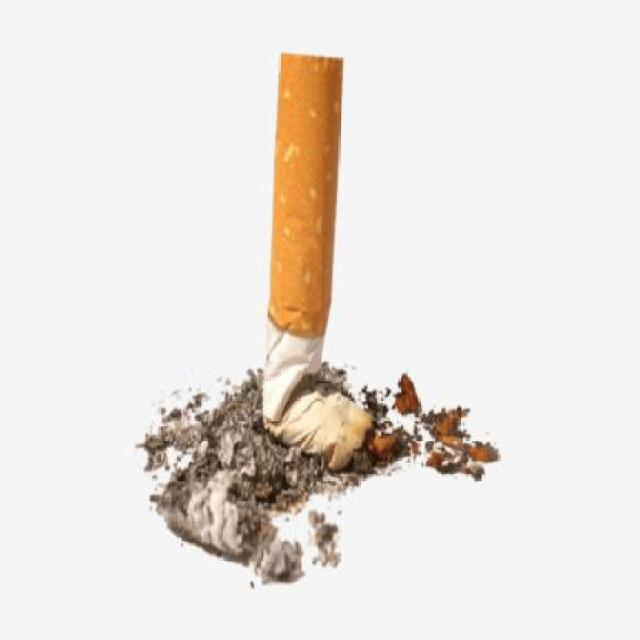cigarette: (259, 32, 401, 471)
